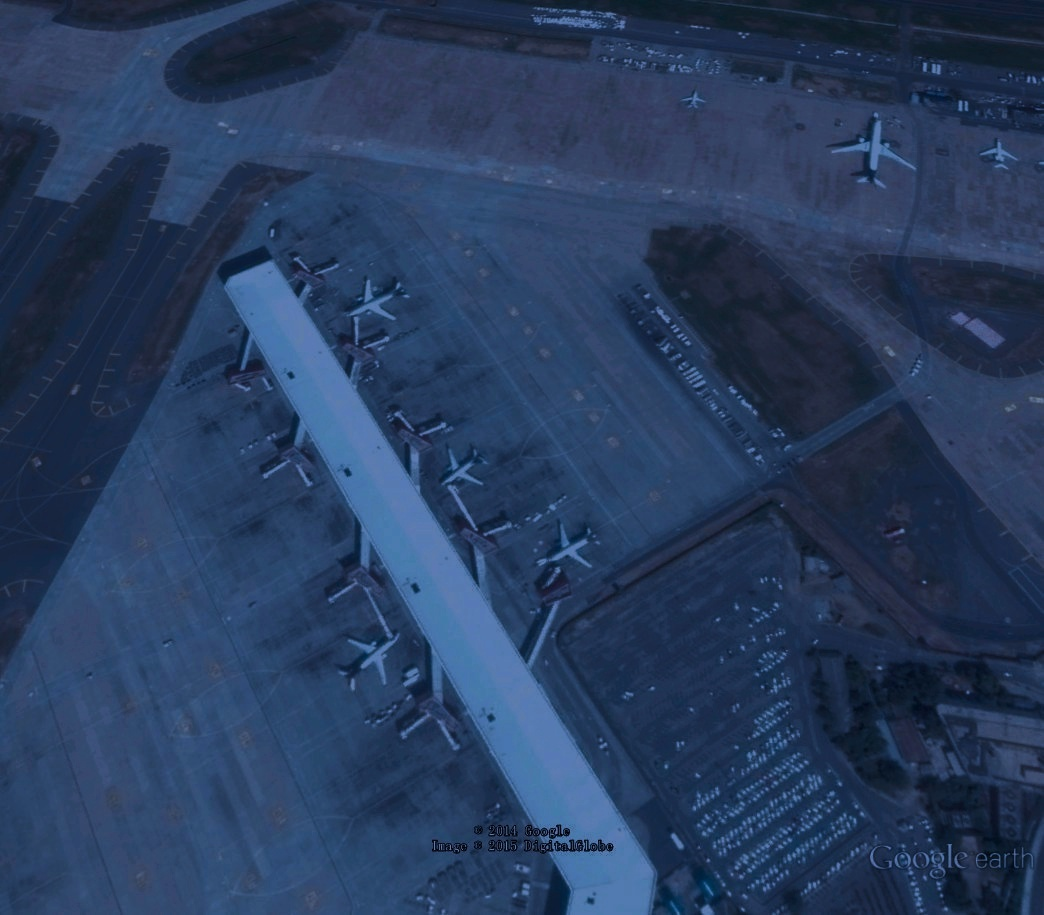aircraft: (828, 112, 922, 196), (334, 628, 403, 699), (342, 271, 412, 331), (538, 516, 601, 577), (435, 441, 493, 493), (976, 138, 1023, 175), (681, 87, 706, 112)
